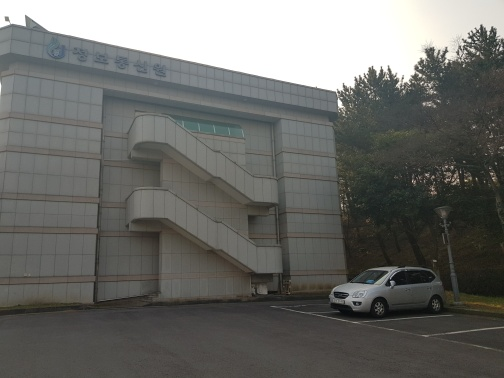Information Telecommunication Center: (6, 15, 349, 308), (44, 36, 191, 91)
